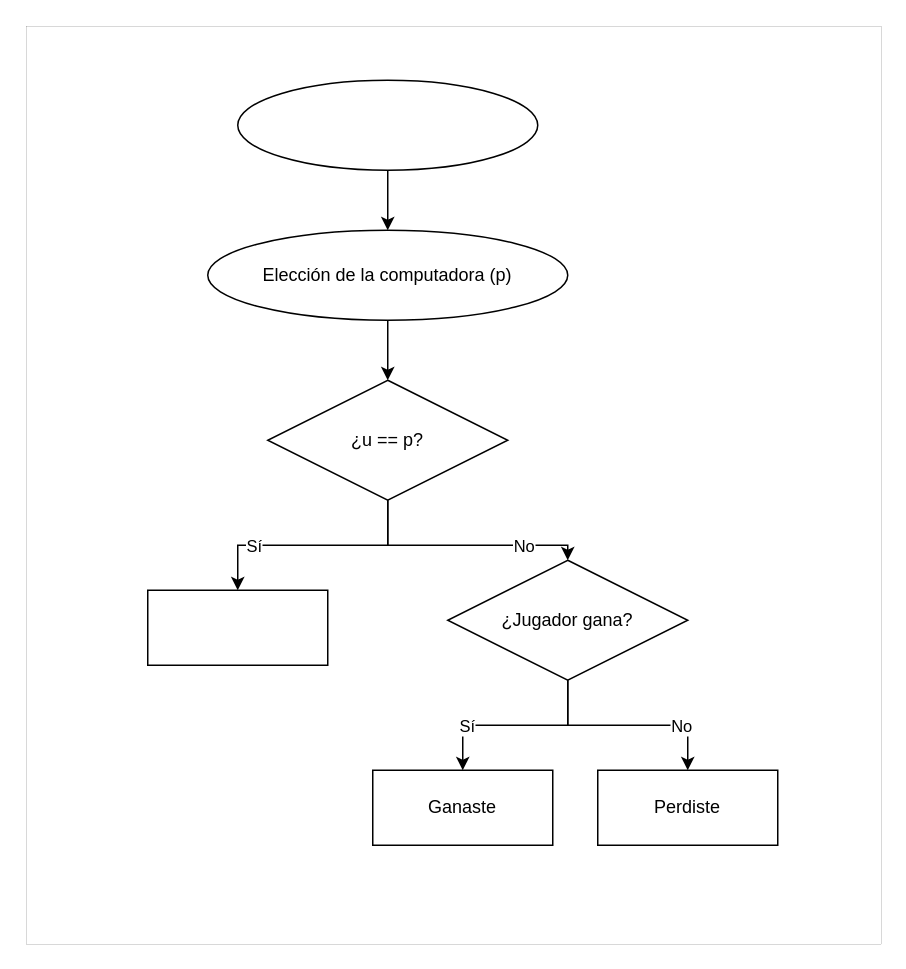
The diagram is 906 pixels wide and 969 high, and some of its shapes have lost their labels. The shapes that lost their labels are listed below. From the top down, each one's box as (x1, y1, x2, y2) in pixels, then its label:
(236, 79, 538, 170): Elección del jugador (u)
(146, 589, 328, 665): Empate
